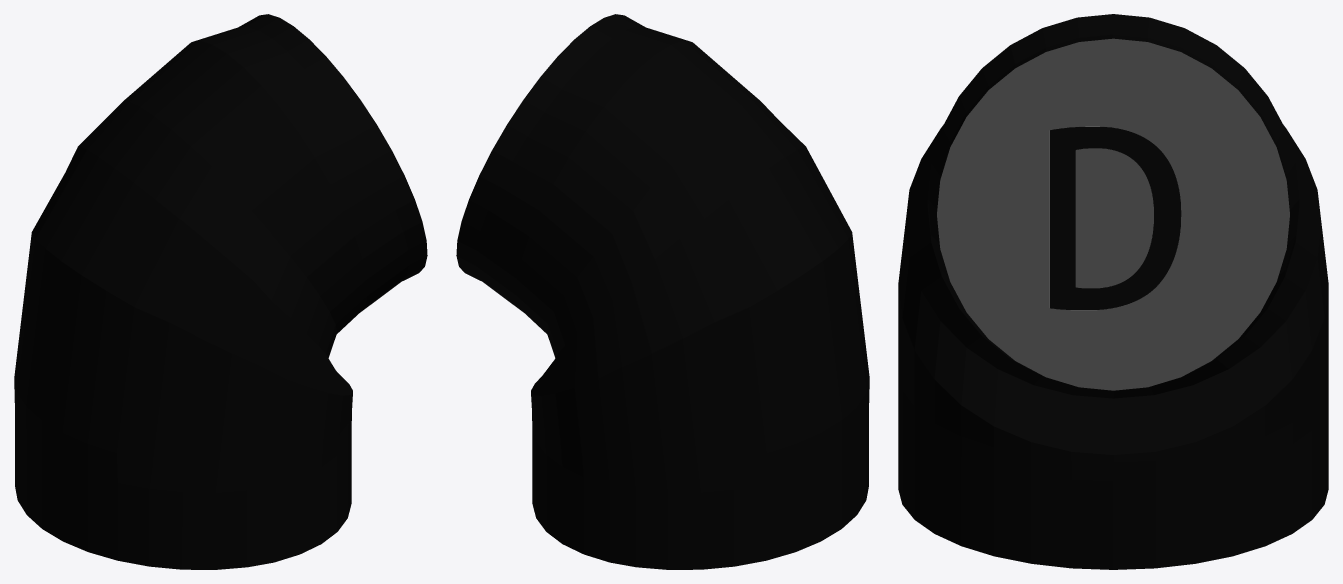
3 renders of one model, left to right at view 1: azimuth 30°, elevation 25°; view 2: azimuth 150°, elevation 25°; view 3: azimuth 270°, elevation 25°, orthographic. The views are drawn at different scales.
Visible parts, largest first — view 1: 圆环; view 2: 圆环; view 3: 圆环.
Part boxes in pixels (x1,y1,x2,y2): 圆环: (14,14,427,569); 圆环: (456,14,869,569); 圆环: (898,14,1328,569).
Bounding box in the file's own units: 261 × 321 × 244.
Materials: 3 (1 with a texture image).
